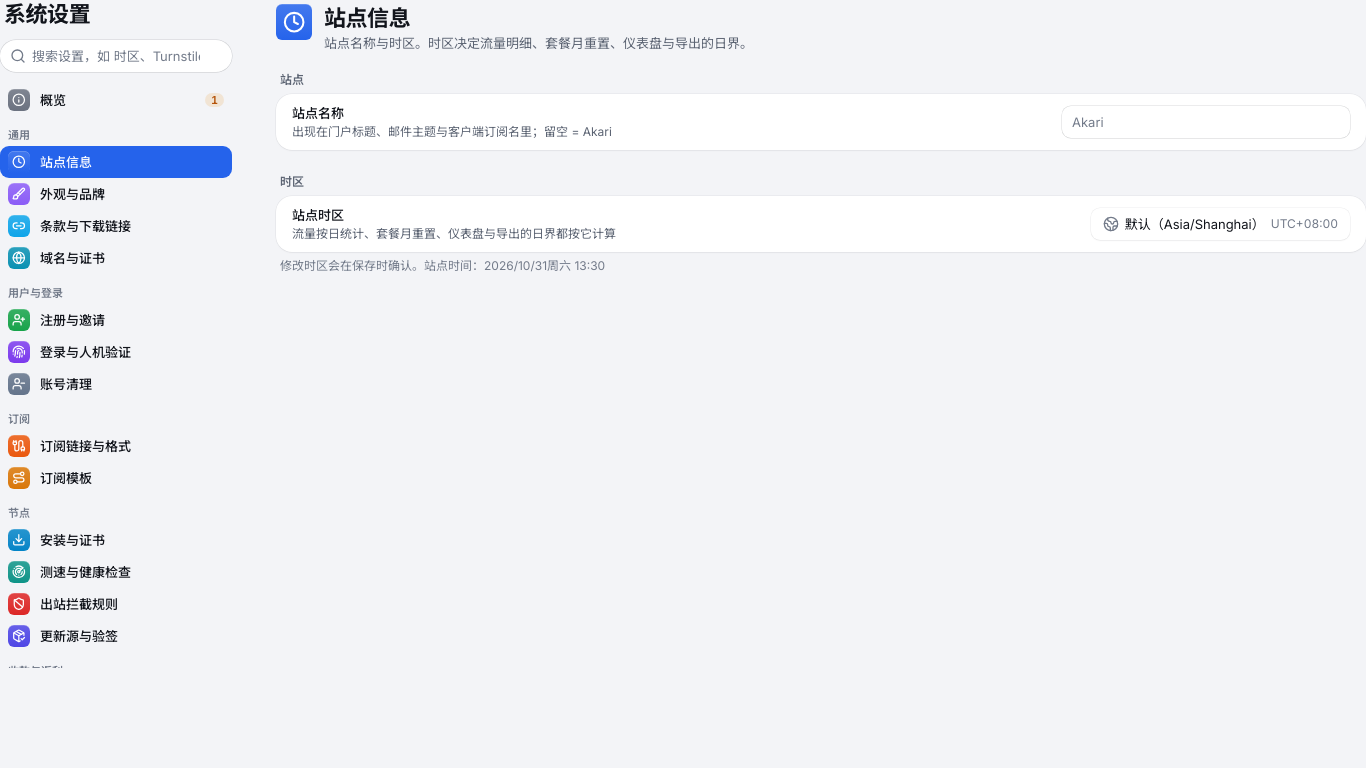
Test: guard on leave
The width and height of the screenshot is (1366, 768).
Later steps or results of the test are not shown.
In the field labelled "站点名称": (1206, 122) [1062,106,1350,138], type "X"
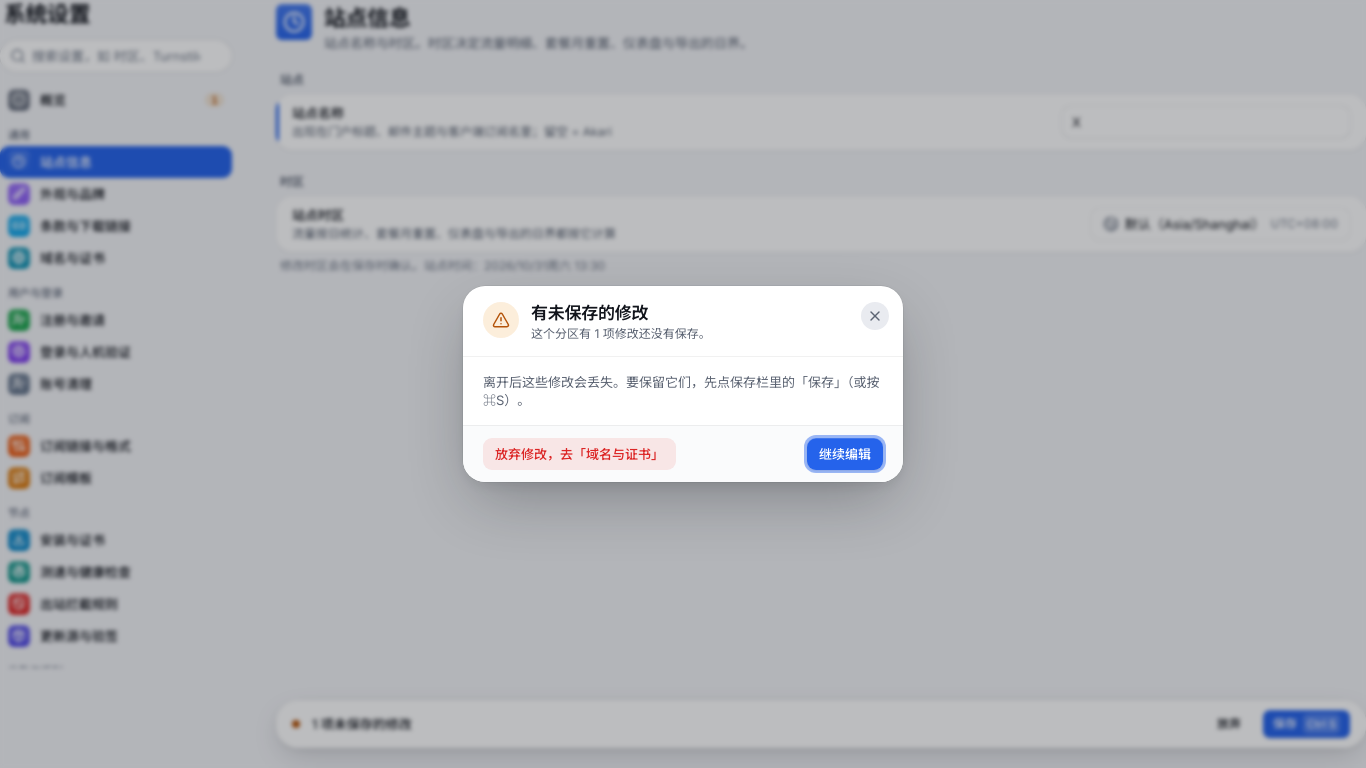
Now the dialog "有未保存的修改" shows "放弃修改，去「域名与证书」", box [483,438,676,470]
